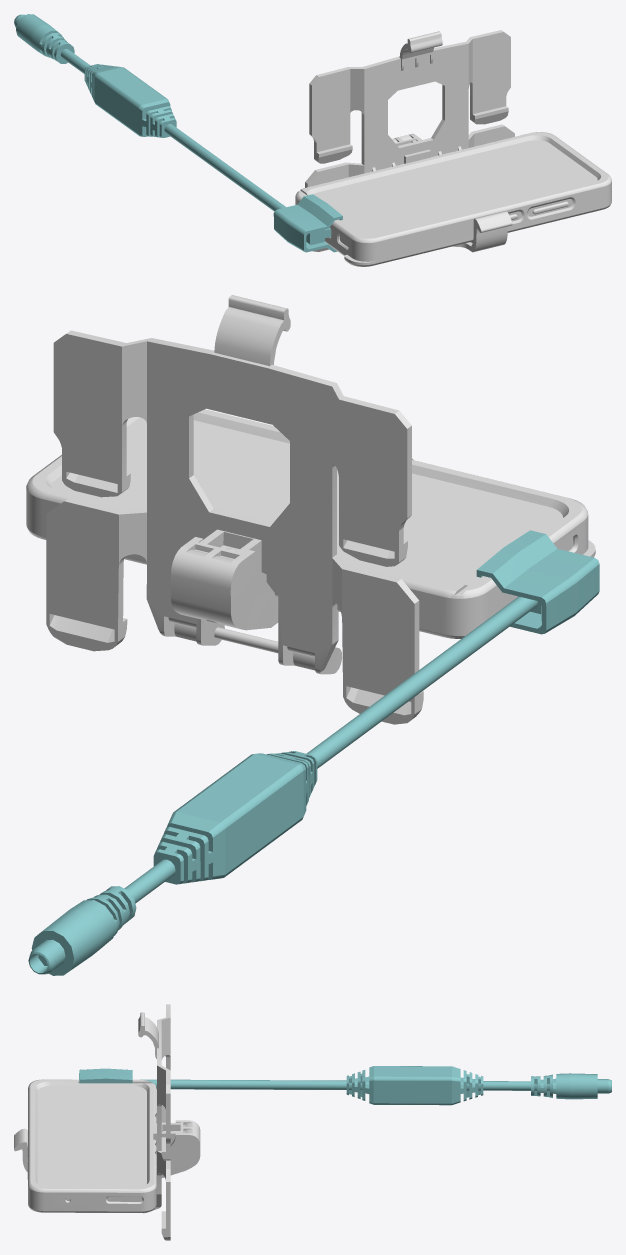
Rendered from ATAK2.fbx.
3 renders of one model, top to bottom at view 1: azimuth 30°, elevation 25°; view 2: azimuth 150°, elevation 25°; view 3: azimuth 270°, elevation 25°, orthographic. The views are drawn at different scales.
Parts seen in each view (by area): view 1: ATAK_LOD0, Bracket_1_low.001_LOD0, UTM_Wire_low, Bracket_2_low.001_LOD0; view 2: Bracket_1_low.001_LOD0, ATAK_LOD0, UTM_Wire_low, Bracket_2_low.001_LOD0; view 3: ATAK_LOD0, UTM_Wire_low, Bracket_1_low.001_LOD0, Bracket_2_low.001_LOD0.
Boxes of the visible parts, box(x1,y1,x2,y2) form: ATAK_LOD0: box(295, 132, 611, 266); Bracket_1_low.001_LOD0: box(305, 30, 514, 251); UTM_Wire_low: box(14, 14, 342, 252); Bracket_2_low.001_LOD0: box(392, 133, 512, 252); Bracket_1_low.001_LOD0: box(46, 295, 423, 724); ATAK_LOD0: box(26, 409, 595, 638); UTM_Wire_low: box(28, 530, 599, 975); Bracket_2_low.001_LOD0: box(171, 458, 413, 630); ATAK_LOD0: box(27, 1079, 156, 1212); UTM_Wire_low: box(79, 1066, 611, 1105); Bracket_1_low.001_LOD0: box(138, 1004, 170, 1240); Bracket_2_low.001_LOD0: box(14, 1120, 200, 1177).
Size of what is drawn, in the model's own units: 15.51 by 10.5 by 31.45.
